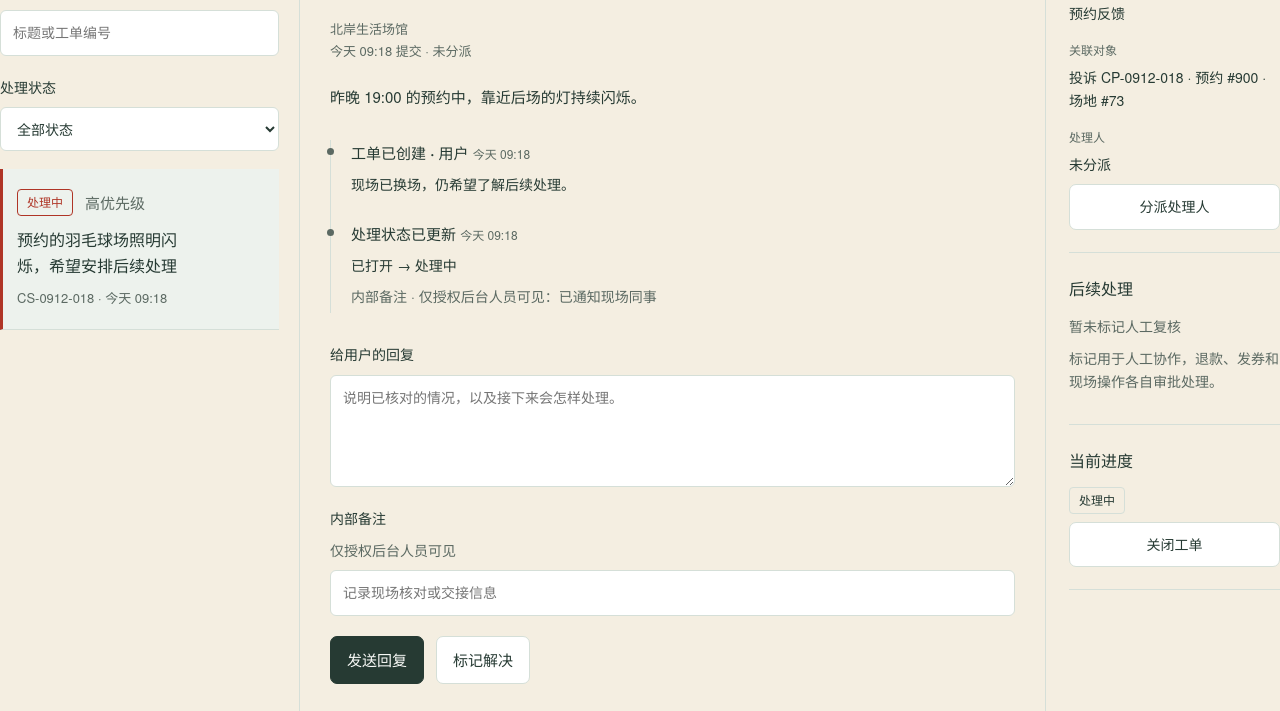
Test: ShiguangVenueCustomerServiceView 写动作 › 未分派工单直接解决时按服务端原文留在弹层
(page scrolled)
Click the button with test id "open-resolve". click: point(483, 660)
box: top-left (436, 636), bottom-right (530, 684)
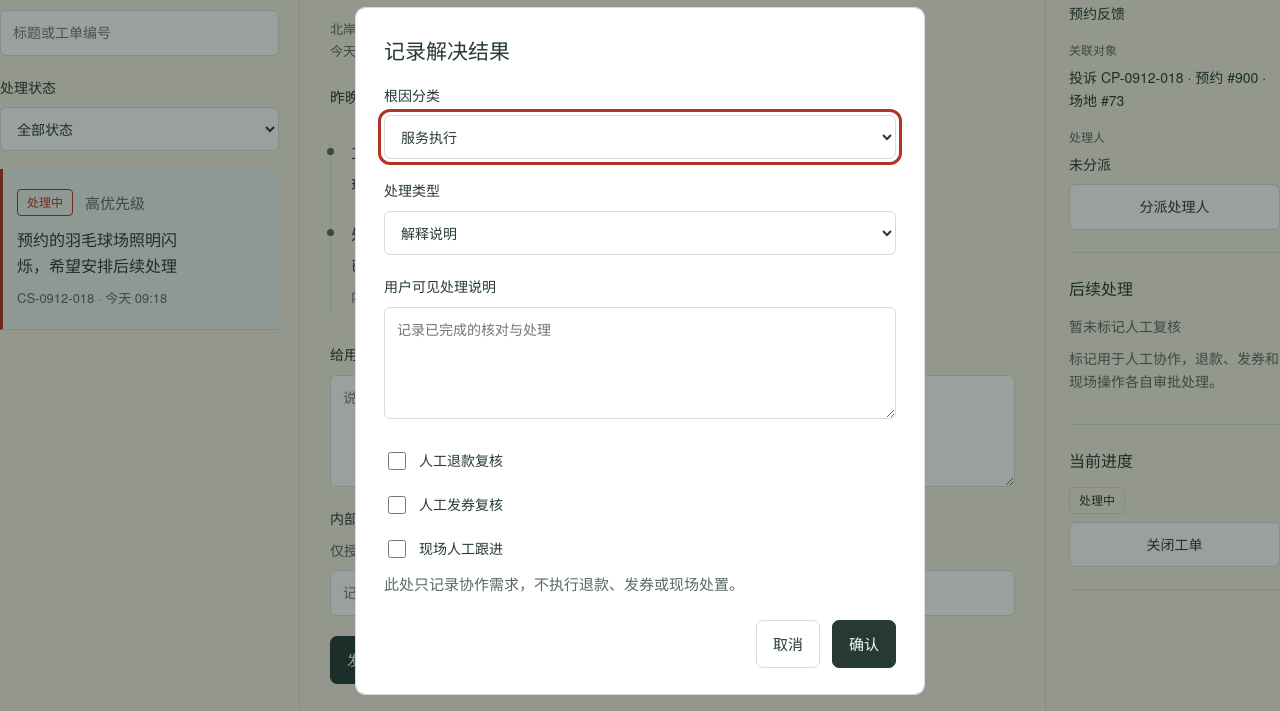
Type "已处理" into the text box with test id "field-reason". click: point(640, 363)
box: top-left (384, 307), bottom-right (896, 419)
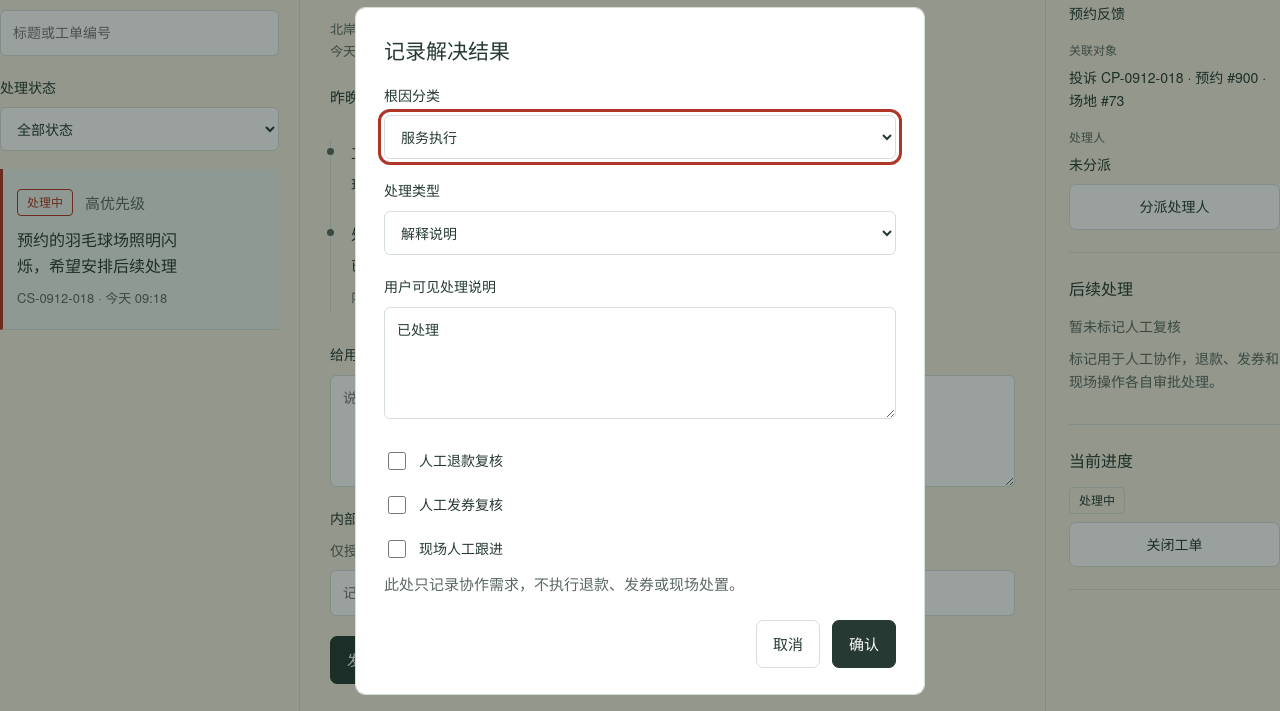
Submit the form with test id "action-form", box top-left (384, 36), bottom-right (896, 668)
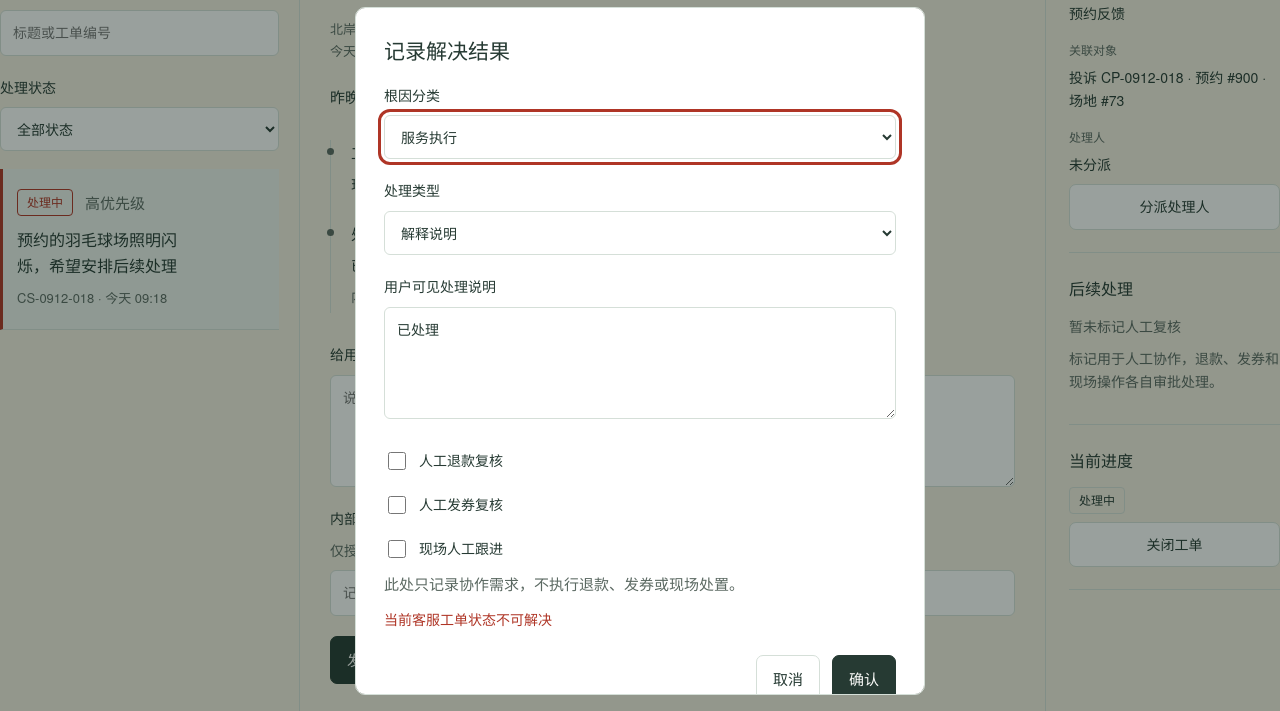
Expected: the button with test id "dialog-confirm" is shown, top-left (832, 655), bottom-right (896, 695)
Expected: the message with test id "dialog-error" reads "当前客服工单状态不可解决", top-left (384, 609), bottom-right (552, 629)
